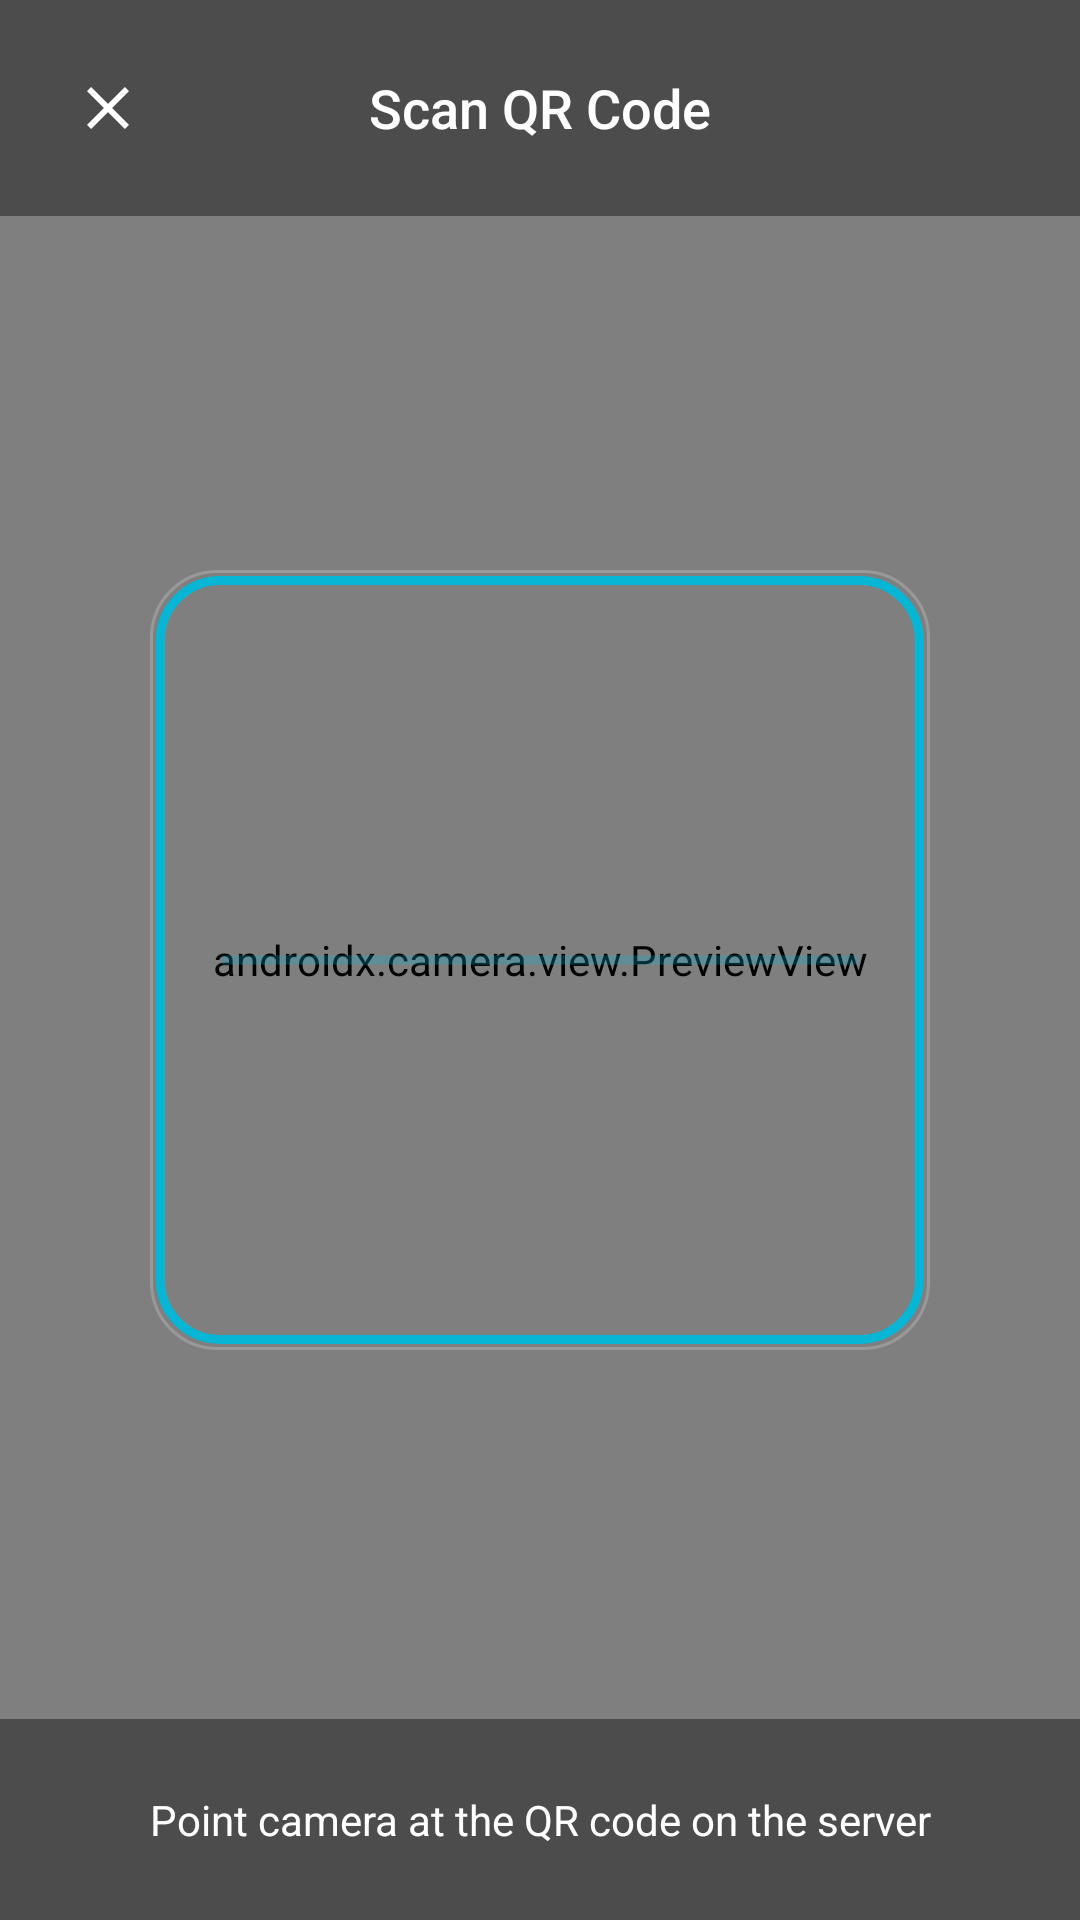

Named icons in this screenshot (1080 x 1920) and their centers, [x,y]:
Close: [108,108]
